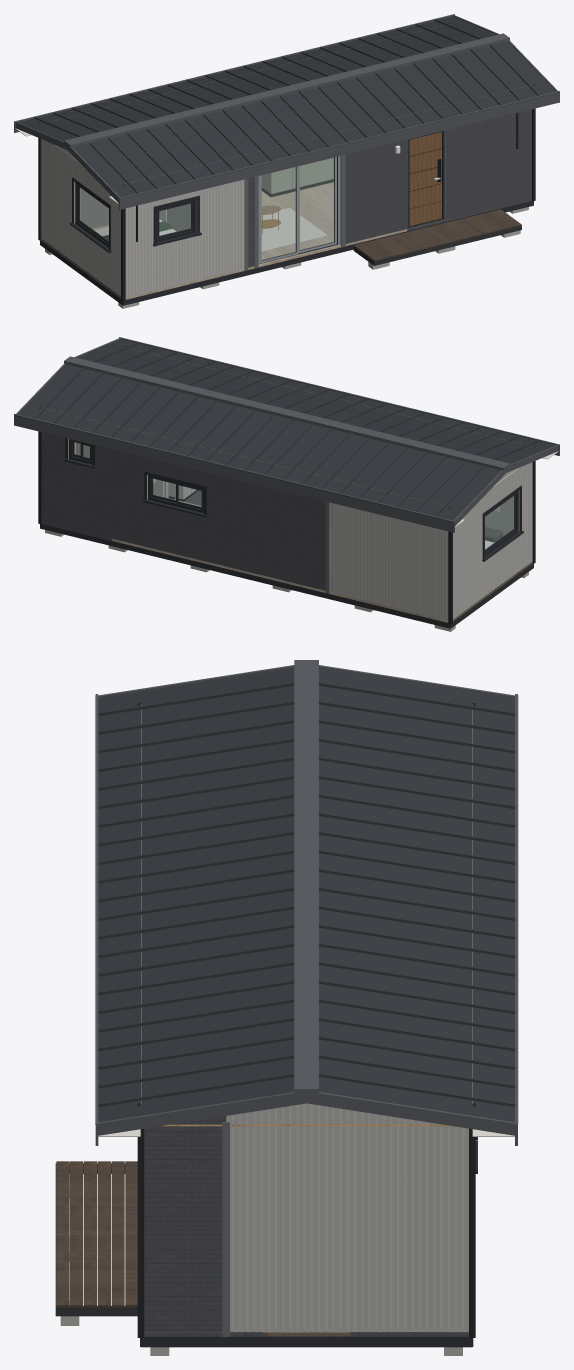
File: FOREST10-WG.glb
3 renders of one model, top to bottom at view 1: azimuth 30°, elevation 25°; view 2: azimuth 150°, elevation 25°; view 3: azimuth 270°, elevation 25°, orthographic. The views are drawn at different scales.
Parts seen in each view (by area): view 1: 지붕_징크, 외장_골강판_화이트, 외장_패널_그레이, 지붕_후레싱, 유리, 바닥_마루, 데크, 현관문_우드, 하부_스커트, 러그, 실내벽_그레이, 창틀 (+9 smaller); view 2: 지붕_징크, 외장_패널_그레이, 외장_골강판_화이트, 지붕_후레싱, 하부_스커트, 유리, 창틀, 창몰딩, 외장_코너, 바닥_마루, 실내벽_그레이, 외장_트림 (+1 smaller); view 3: 지붕_징크, 외장_골강판_화이트, 지붕_후레싱, 외장_패널_그레이, 데크, 하부_스커트, 지붕_외장_골강판_화이트, 외장_코너, 외장_트림, 데크_테두리, 바닥_슬레이트, 지붕_욕실_천장.
Part boxes in pixels (x1,y1,x2,y2): 지붕_징크: [18, 16, 555, 197]; 외장_골강판_화이트: [41, 139, 244, 297]; 외장_패널_그레이: [248, 109, 531, 267]; 지붕_후레싱: [14, 14, 559, 209]; 유리: [79, 158, 334, 259]; 바닥_마루: [41, 182, 406, 299]; 데크: [353, 209, 521, 261]; 현관문_우드: [409, 132, 441, 226]; 하부_스커트: [40, 201, 533, 305]; 러그: [261, 207, 327, 251]; 실내벽_그레이: [74, 182, 197, 232]; 창틀: [75, 157, 334, 260]; 지붕_징크: [18, 339, 555, 520]; 외장_패널_그레이: [42, 432, 325, 590]; 외장_골강판_화이트: [329, 462, 532, 620]; 지붕_후레싱: [14, 337, 559, 532]; 하부_스커트: [40, 524, 533, 628]; 유리: [74, 442, 514, 549]; 창틀: [69, 439, 518, 555]; 창몰딩: [63, 438, 523, 561]; 외장_코너: [38, 431, 535, 624]; 바닥_마루: [112, 538, 532, 622]; 실내벽_그레이: [485, 490, 519, 535]; 외장_트림: [325, 501, 329, 593]; 지붕_징크: [98, 668, 515, 1122]; 외장_골강판_화이트: [230, 1124, 468, 1331]; 지붕_후레싱: [95, 660, 518, 1145]; 외장_패널_그레이: [144, 1124, 222, 1331]; 데크: [56, 1161, 137, 1307]; 하부_스커트: [140, 1336, 473, 1347]; 지붕_외장_골강판_화이트: [141, 704, 472, 1124]; 외장_코너: [137, 1128, 475, 1337]; 외장_트림: [222, 1122, 229, 1336]; 데크_테두리: [55, 1163, 137, 1316]; 바닥_슬레이트: [144, 1332, 468, 1336]; 지붕_욕실_천장: [161, 1124, 452, 1126].
Size of the model in its own units: 10.74 by 3.3 by 4.88.
Materials: 57 (13 with a texture image).
